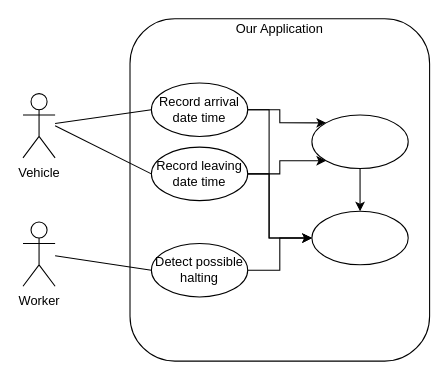
Some shapes in this 448 by 380 pixel diagram are drawn without their labels. The centre of each missing label's shape, as x and y in pixels:
Compute maintenance time: pixel 359 141
Record to database: pixel 359 237
